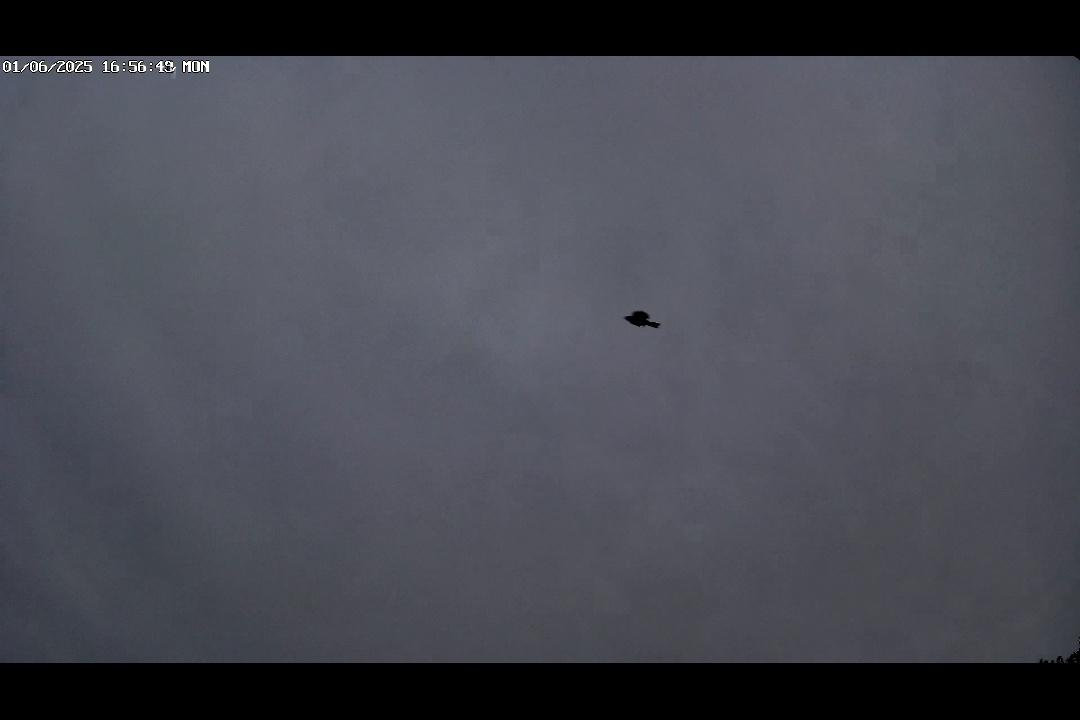WildLife: (597, 283, 678, 343)
